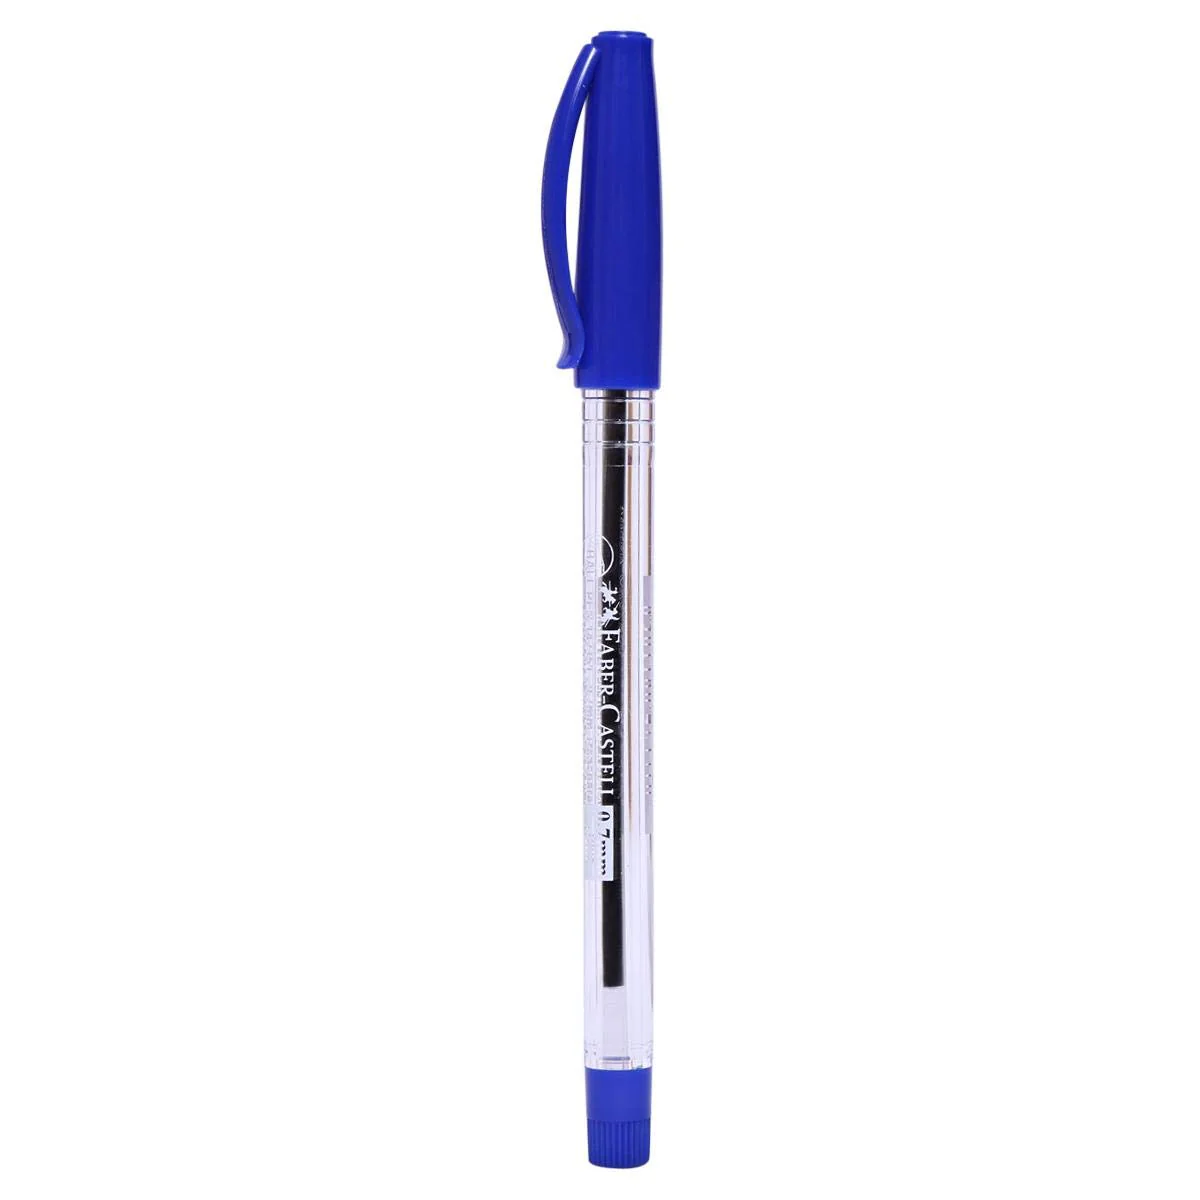pen: (524, 21, 708, 1188)
